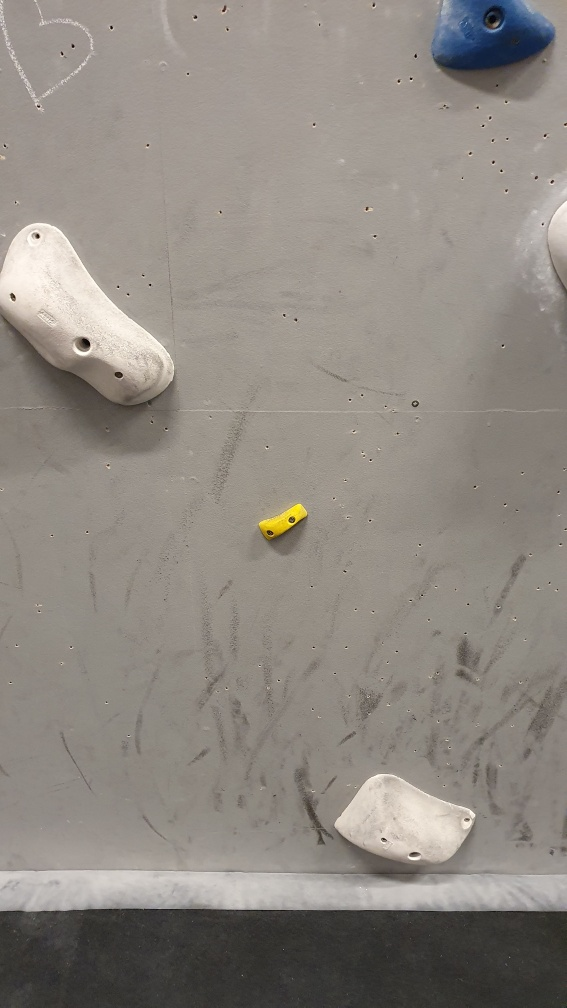Crimp: (257, 501, 314, 541)
